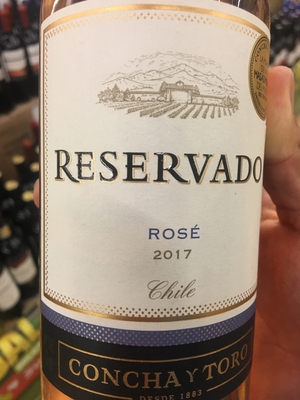reservado rose: (33, 4, 272, 400)
